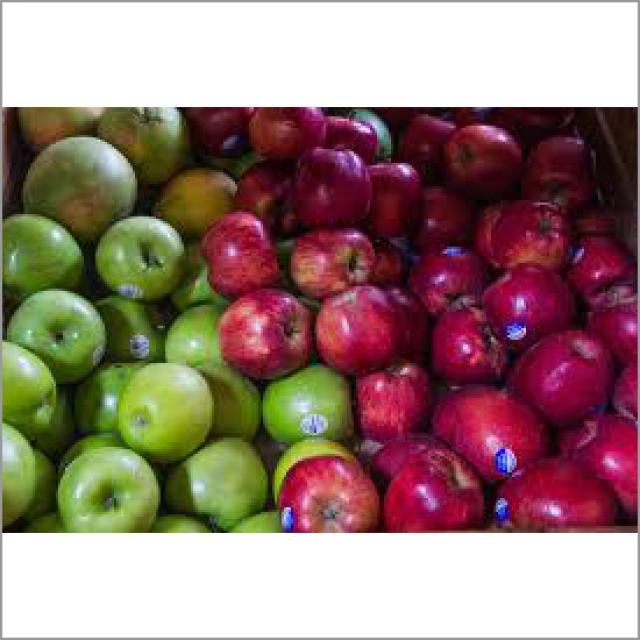Apple: (368, 108, 637, 530), (364, 371, 628, 549)
green apple: (3, 108, 363, 532)
